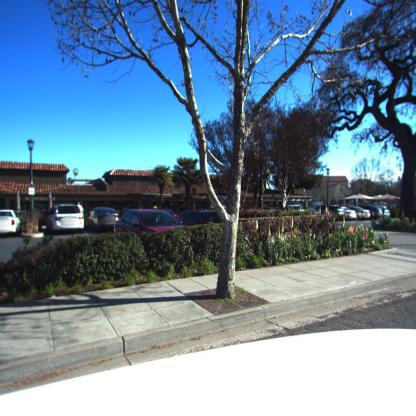car: (116, 208, 179, 235), (47, 203, 86, 234), (86, 208, 119, 232), (177, 208, 221, 225), (0, 208, 22, 238), (339, 206, 371, 220), (363, 204, 390, 218)
